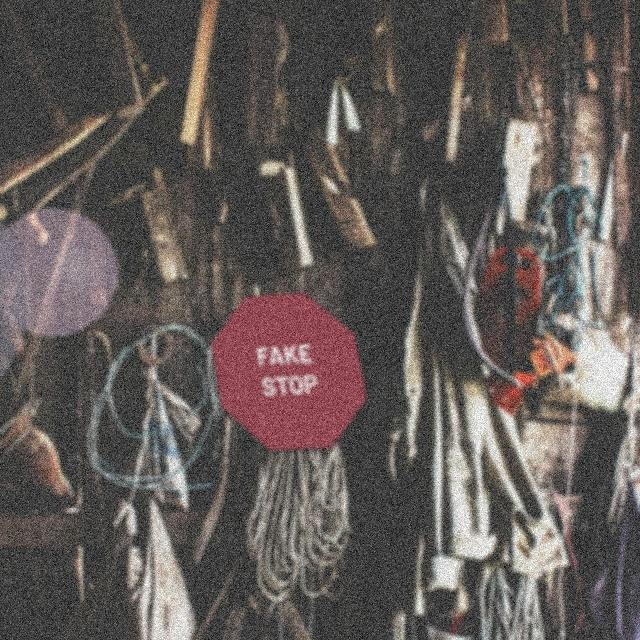FAKE_STOP: (210, 291, 368, 452)
